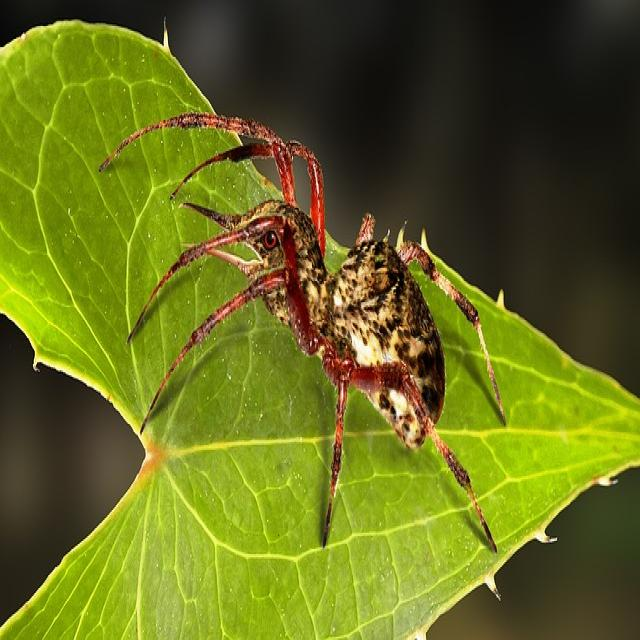spyder: (101, 114, 504, 549)
